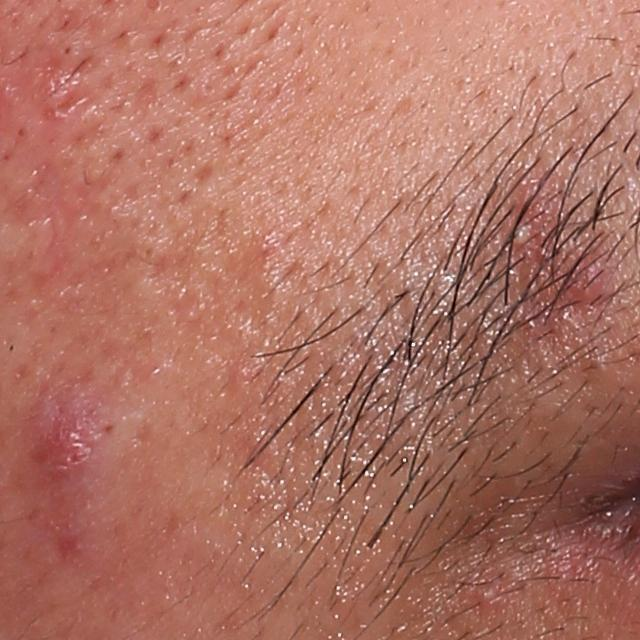papule: (21, 400, 103, 482), (563, 247, 611, 308), (474, 579, 504, 611)
pustule: (490, 189, 549, 282)
